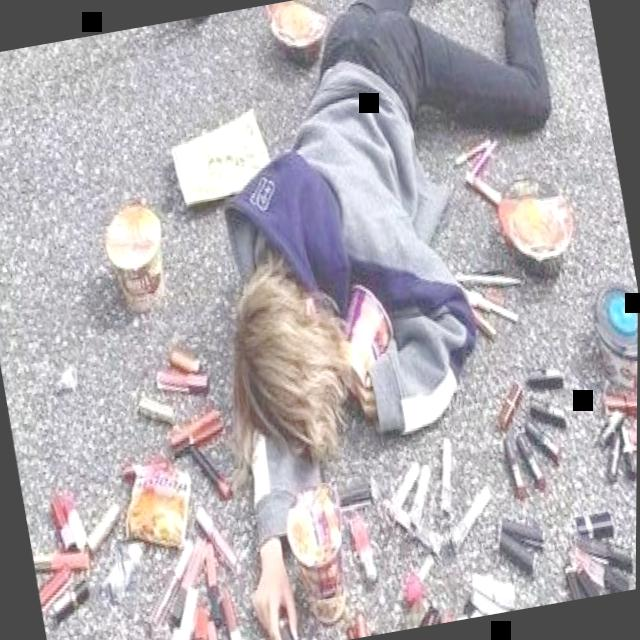Fall-Detected: (138, 0, 640, 640)
